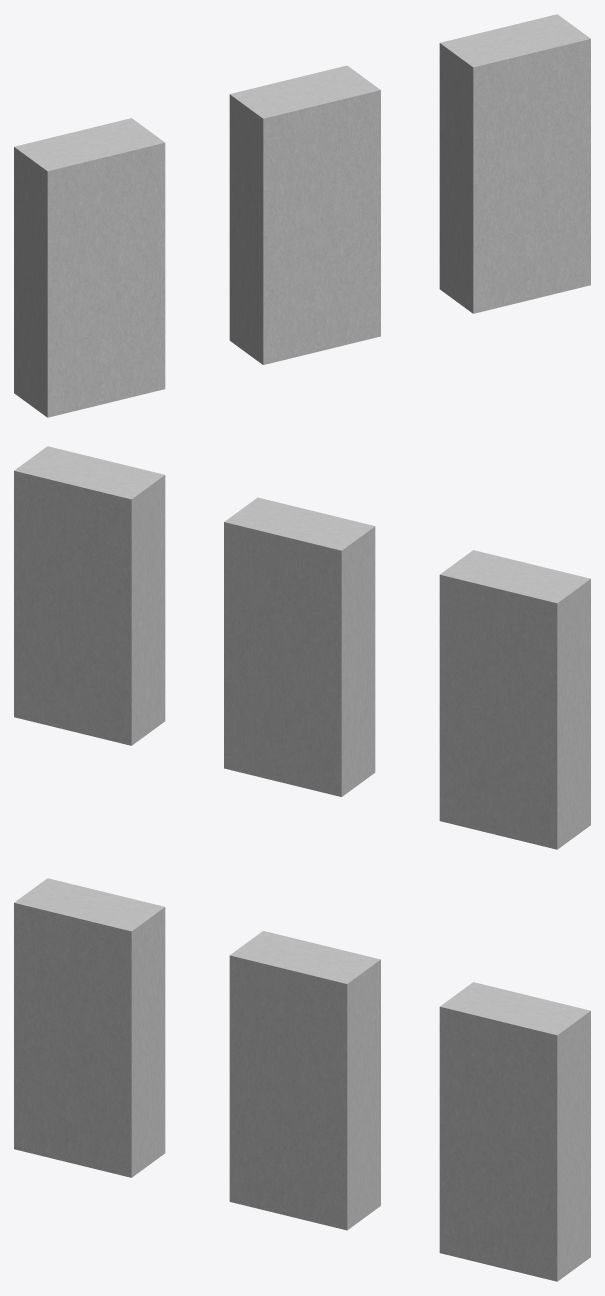
The model's file is doujou_kakeziku.obj.
3 views of the same model, one above another, from view 1: azimuth 30°, elevation 25°; view 2: azimuth 150°, elevation 25°; view 3: azimuth 330°, elevation 25° (orthographic).
Parts seen in each view (by area): view 1: 立方体.004; view 2: 立方体.004; view 3: 立方体.004.
Boxes of the visible parts, left/top/right/bottom form: 立方体.004: left=14, top=14, right=590, bottom=417; 立方体.004: left=14, top=446, right=590, bottom=849; 立方体.004: left=14, top=878, right=590, bottom=1281.
Bounding box in the file's own units: 223 × 96.78 × 23.92.
3 materials, 3 textured.
